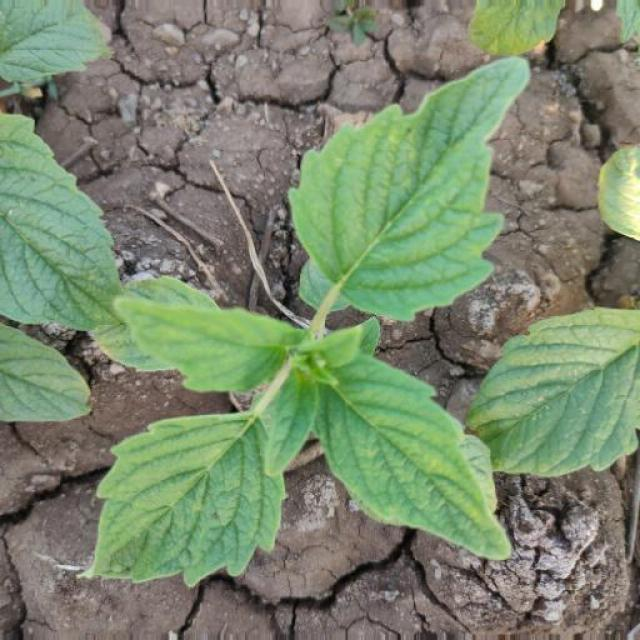crop: (56, 46, 546, 624)
